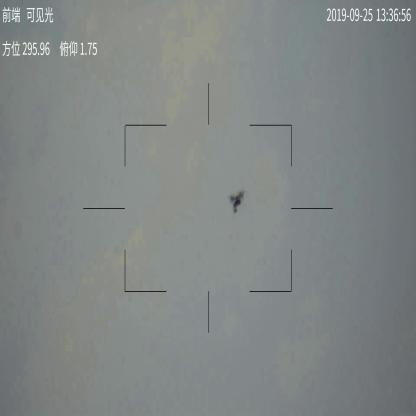uav: (228, 189, 245, 213)
